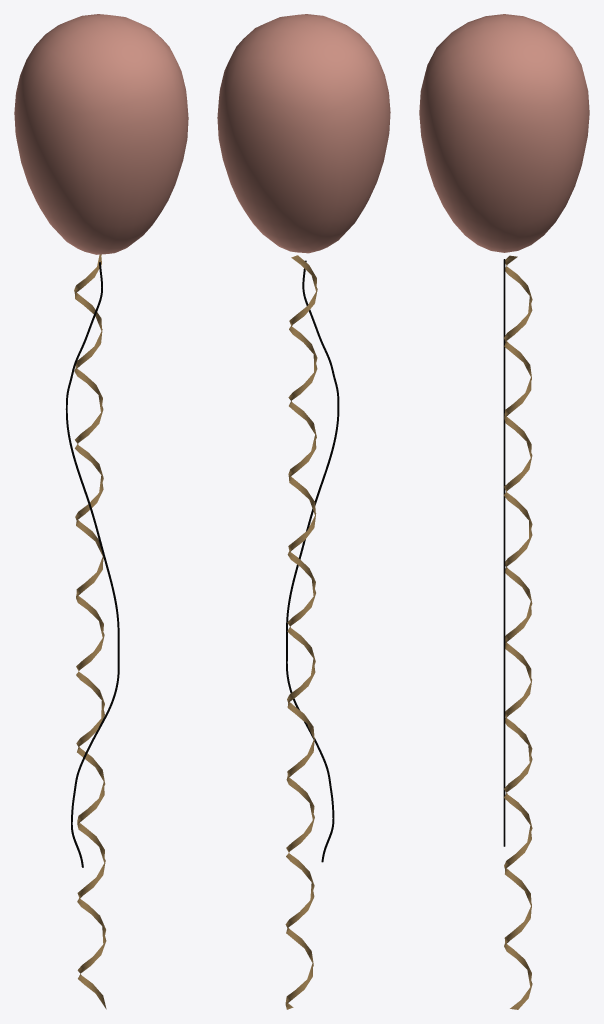
Rendered from globo2.fbx.
3 renders of one model, left to right at view 1: azimuth 30°, elevation 25°; view 2: azimuth 150°, elevation 25°; view 3: azimuth 270°, elevation 25°, orthographic.
Parts seen in each view (by area): view 1: pCube2, sweep1, defaultBrush1Main; view 2: pCube2, sweep1, defaultBrush1Main; view 3: pCube2, sweep1, defaultBrush1Main.
Boxes of the visible parts, x1,y1,x2,y2 form: pCube2: [14, 14, 188, 254]; sweep1: [74, 254, 106, 1009]; defaultBrush1Main: [65, 262, 119, 867]; pCube2: [217, 14, 390, 253]; sweep1: [285, 255, 317, 1009]; defaultBrush1Main: [286, 260, 339, 862]; pCube2: [419, 14, 589, 252]; sweep1: [504, 255, 532, 1009]; defaultBrush1Main: [503, 259, 505, 846].
Size of the model in its own units: 1.87 by 11.88 by 1.87.
